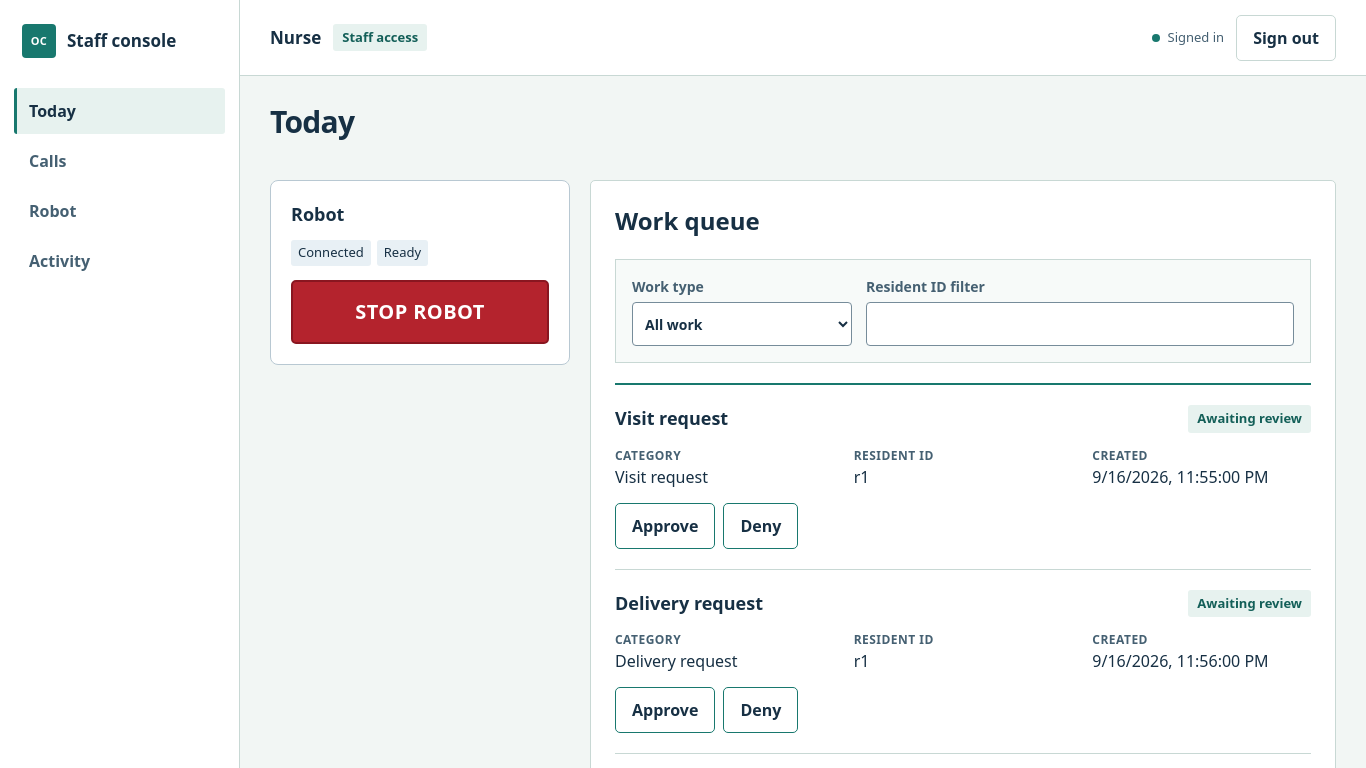
Test: navweb heartbeat active has a localized staff navigation status
Click the button "Robot" at point(120, 211), box [14,188,225,234]
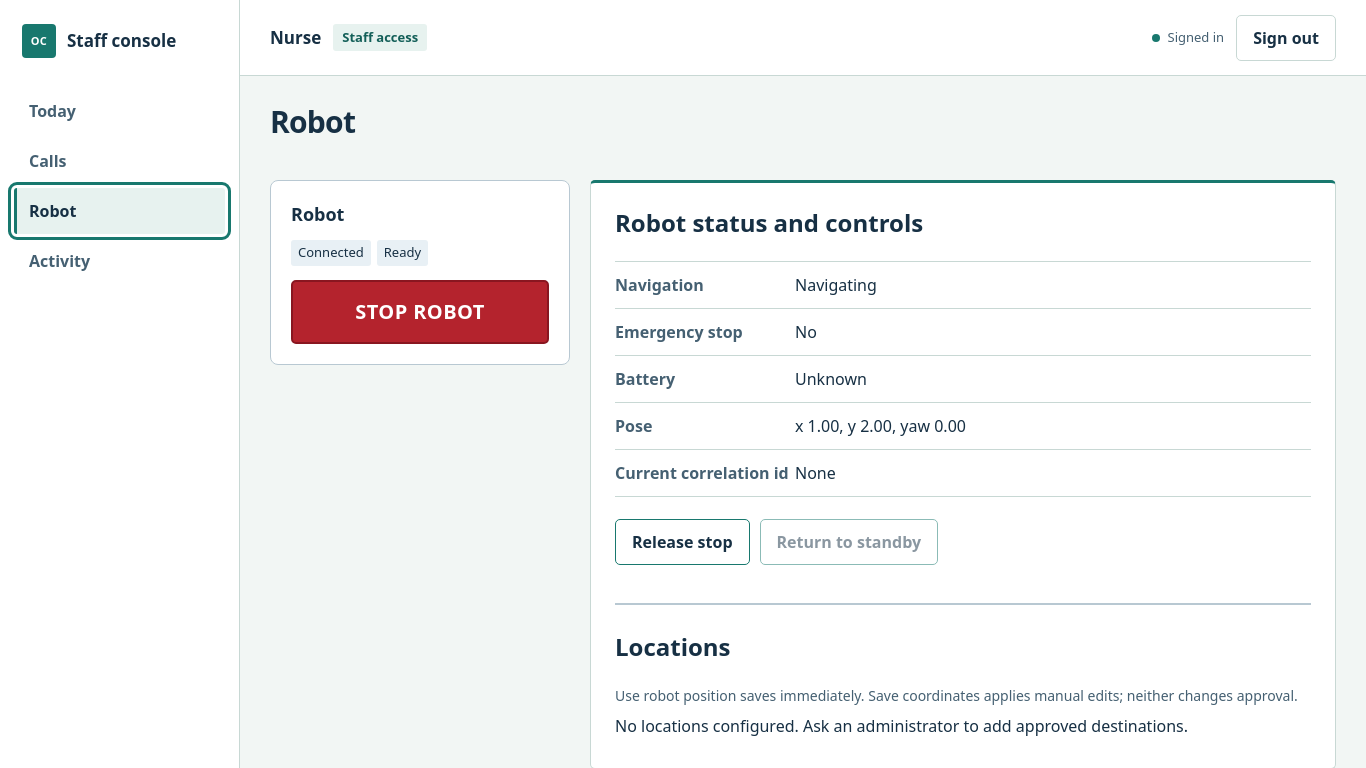
Check: the text "Navigating" is shown, box [795,262,1311,309]
